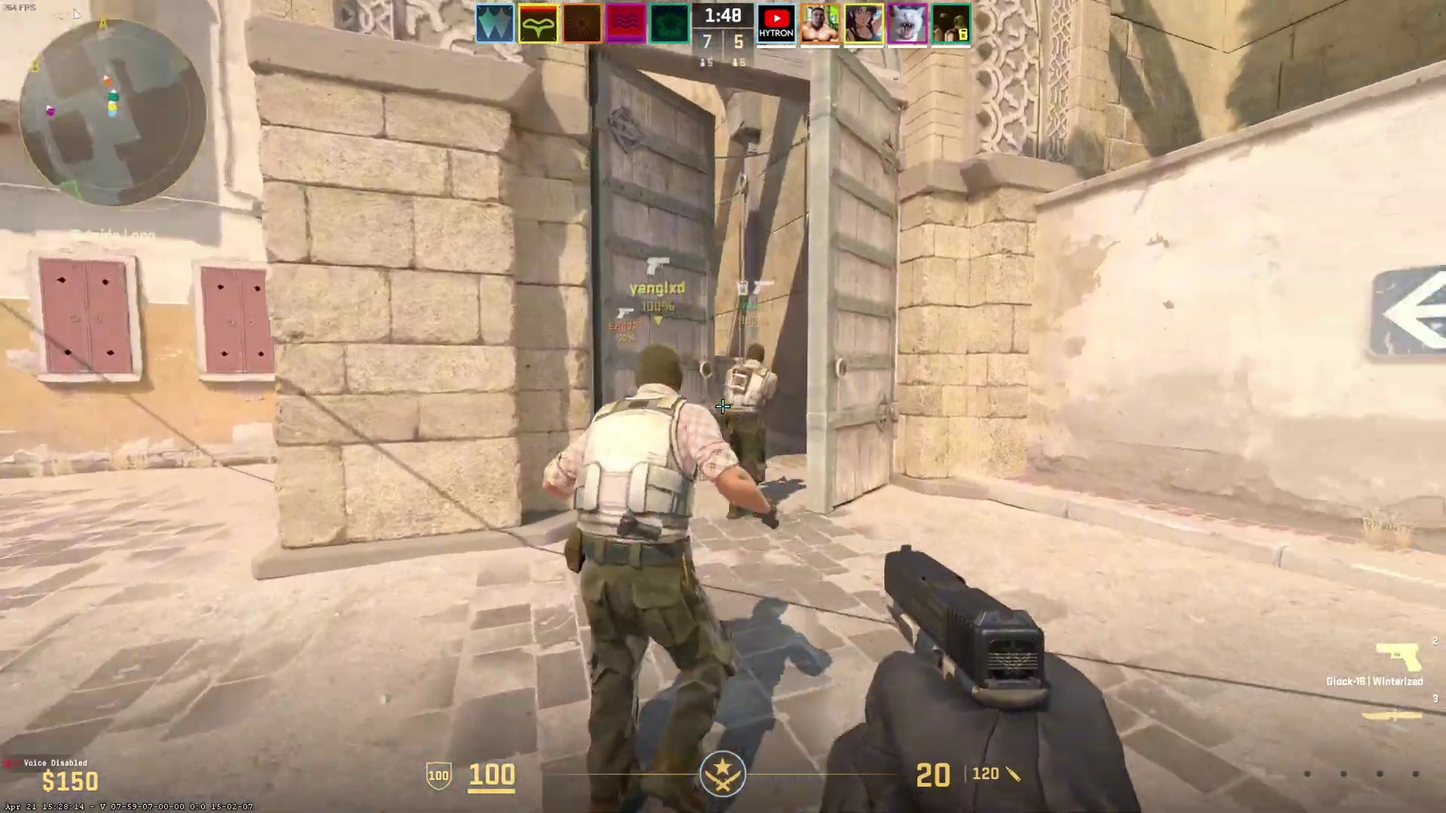Terrorist: (571, 343, 722, 811), (725, 342, 778, 463)
